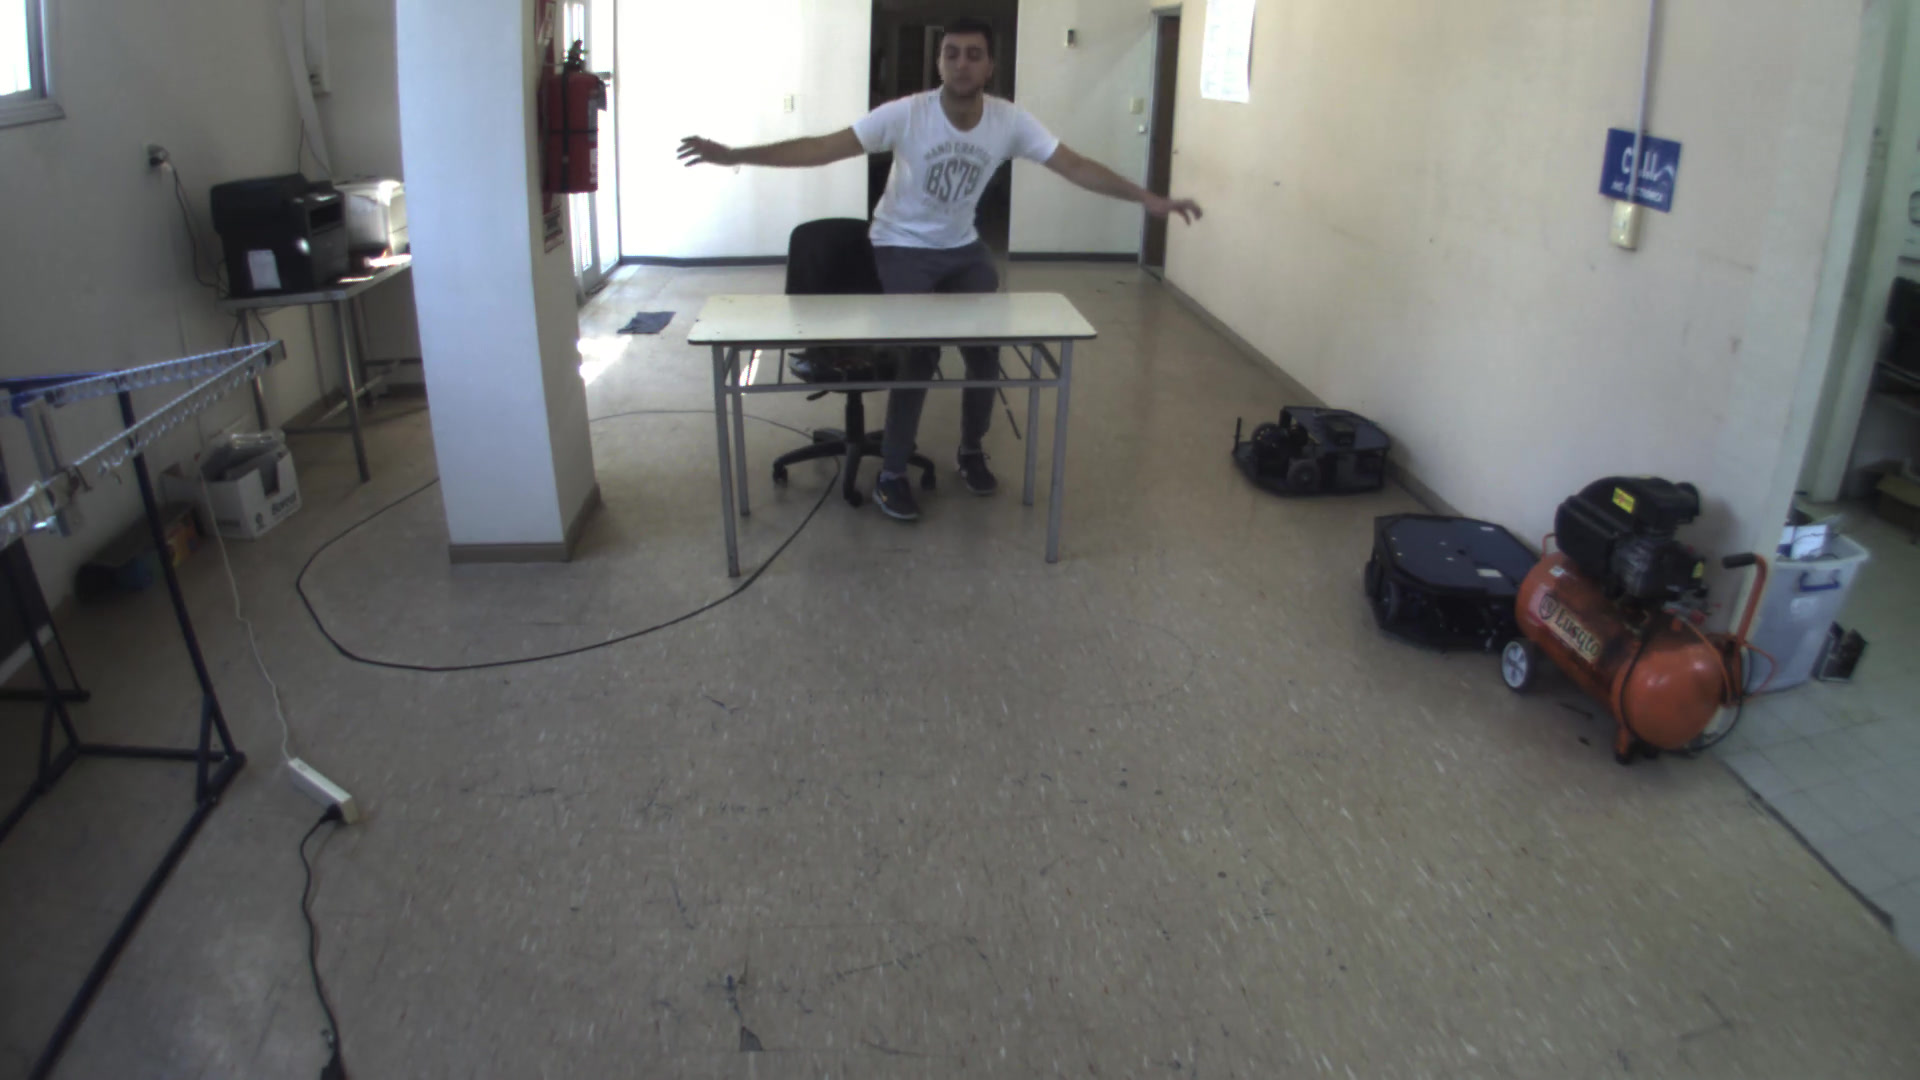hand: (666, 123, 765, 185), (1145, 178, 1217, 244)
